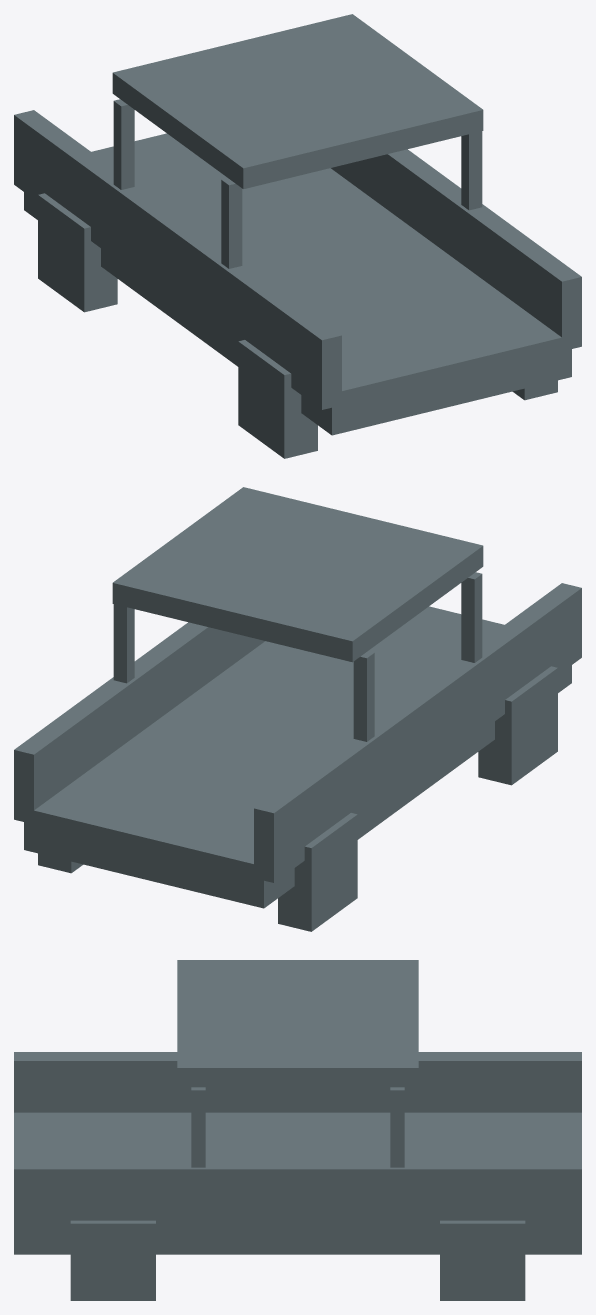
The model's file is burned-car-shell.glb.
The picture shows the model from 3 angles, top to bottom: view 1: azimuth 30°, elevation 25°; view 2: azimuth 150°, elevation 25°; view 3: azimuth 270°, elevation 25°; orthographic projection. The views are drawn at different scales.
Parts seen in each view (by area): view 1: burned-car-shell; view 2: burned-car-shell; view 3: burned-car-shell.
Boxes of the visible parts, box(x1,y1,x2,y2) form: burned-car-shell: box(14, 14, 581, 458); burned-car-shell: box(14, 487, 581, 931); burned-car-shell: box(14, 960, 581, 1300).
Bounding box in the file's own units: 2.05 × 1.75 × 4.
